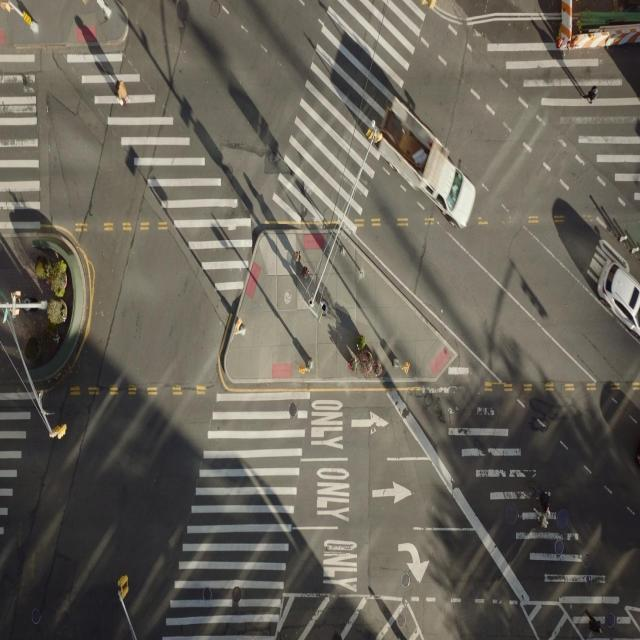Car: (594, 260, 640, 341)
Truck: (376, 94, 476, 229)
